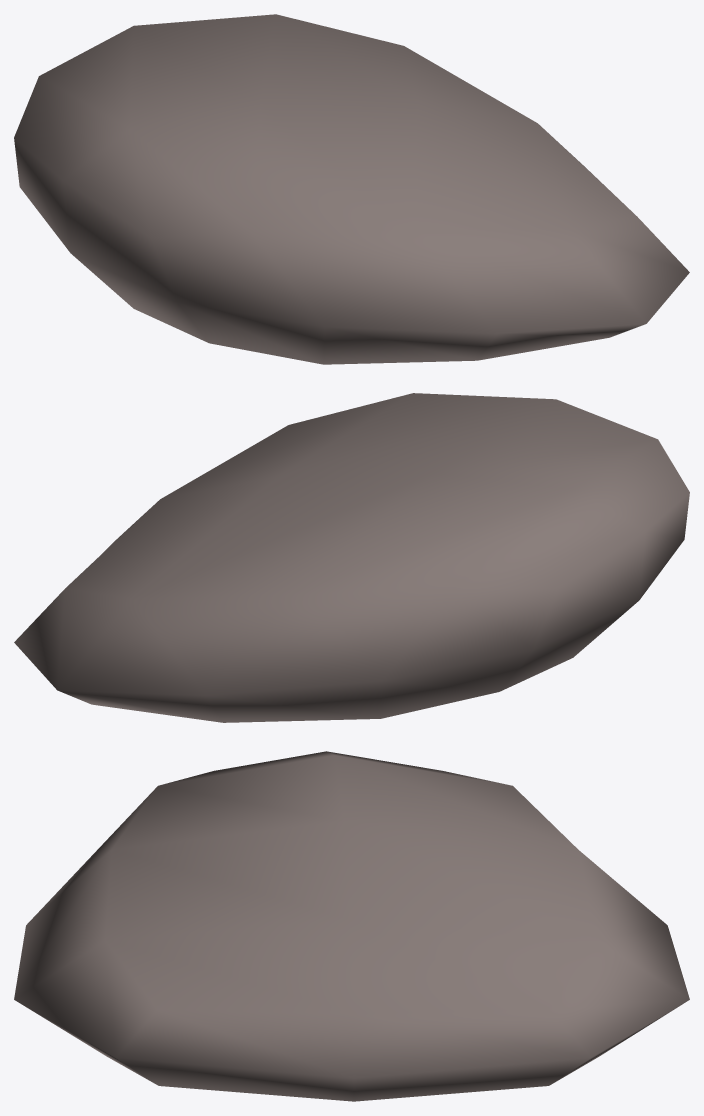
The model's file is Stone2.fbx.
3 renders of one model, top to bottom at view 1: azimuth 30°, elevation 25°; view 2: azimuth 150°, elevation 25°; view 3: azimuth 270°, elevation 25°, orthographic. The views are drawn at different scales.
Visible parts, largest first — view 1: Rock2; view 2: Rock2; view 3: Rock2.
Boxes of the visible parts, x1,y1,x2,y2 form: Rock2: (14,14,689,364); Rock2: (14,393,689,722); Rock2: (14,751,689,1101).
Size of the model in its own units: 95.23 by 36.58 by 124.
